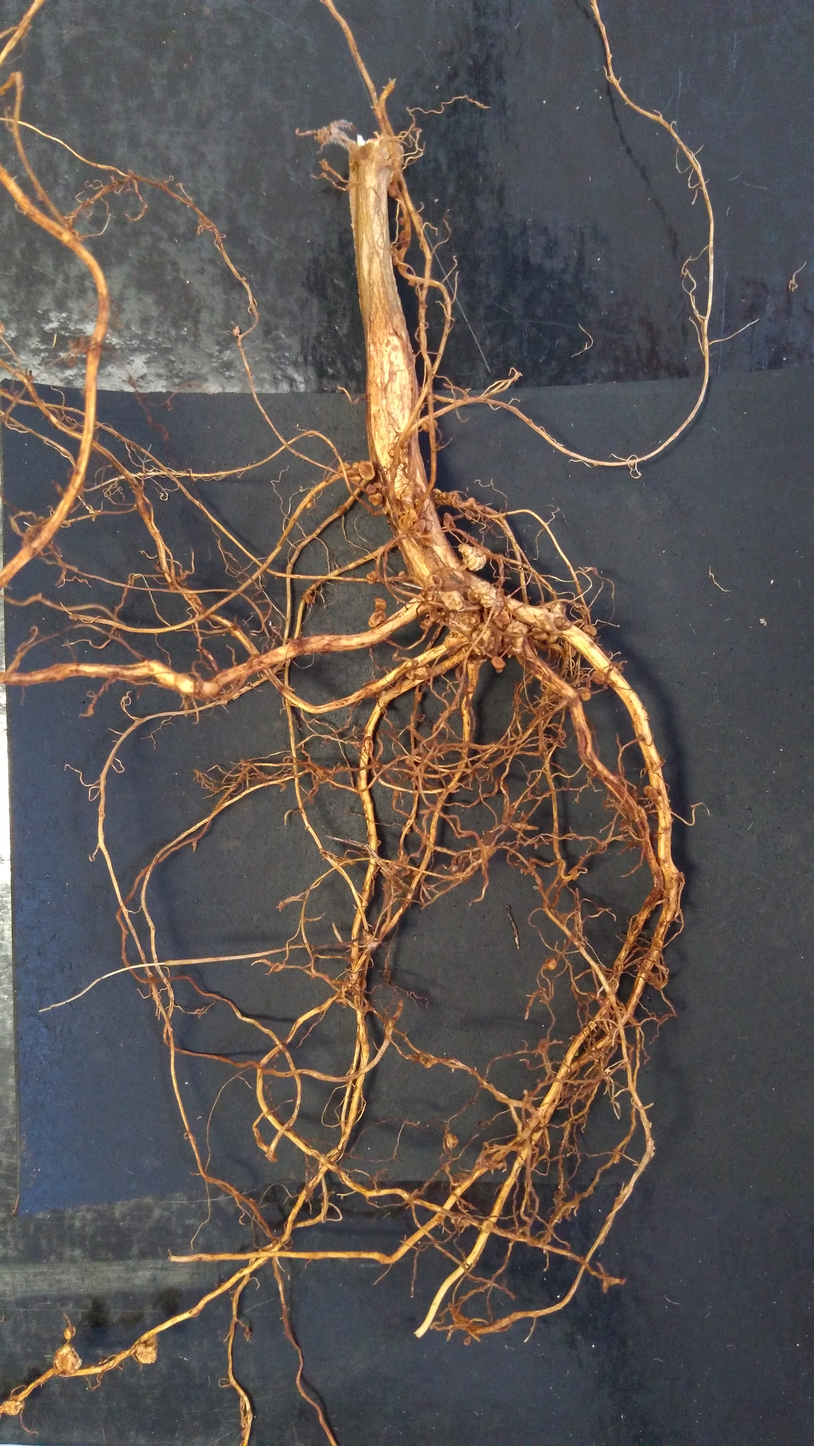nodule: (454, 539, 489, 574), (469, 621, 499, 657), (545, 602, 568, 644), (52, 1342, 82, 1374), (134, 1334, 158, 1368), (1, 1386, 26, 1418), (502, 619, 524, 654), (439, 588, 468, 613), (471, 579, 495, 607), (444, 631, 472, 654), (489, 608, 513, 630), (575, 683, 595, 709), (365, 607, 388, 628), (405, 665, 431, 682), (397, 509, 418, 530), (358, 459, 377, 482), (642, 781, 659, 806), (577, 622, 601, 639), (553, 616, 574, 632), (589, 670, 610, 686), (530, 626, 548, 644), (396, 229, 412, 249), (442, 511, 457, 532), (384, 183, 400, 201), (490, 655, 507, 671), (372, 597, 389, 612), (445, 1132, 460, 1149), (543, 956, 558, 972), (420, 417, 437, 431), (63, 1325, 77, 1341), (367, 493, 384, 506), (564, 644, 576, 661), (364, 571, 378, 585), (428, 486, 442, 500), (439, 490, 453, 504), (419, 618, 434, 631), (337, 460, 350, 474), (449, 489, 461, 503), (364, 482, 377, 494), (301, 593, 312, 606), (390, 254, 401, 267), (464, 509, 475, 521), (304, 500, 315, 510), (397, 216, 407, 227), (352, 461, 361, 469), (406, 279, 416, 286)
